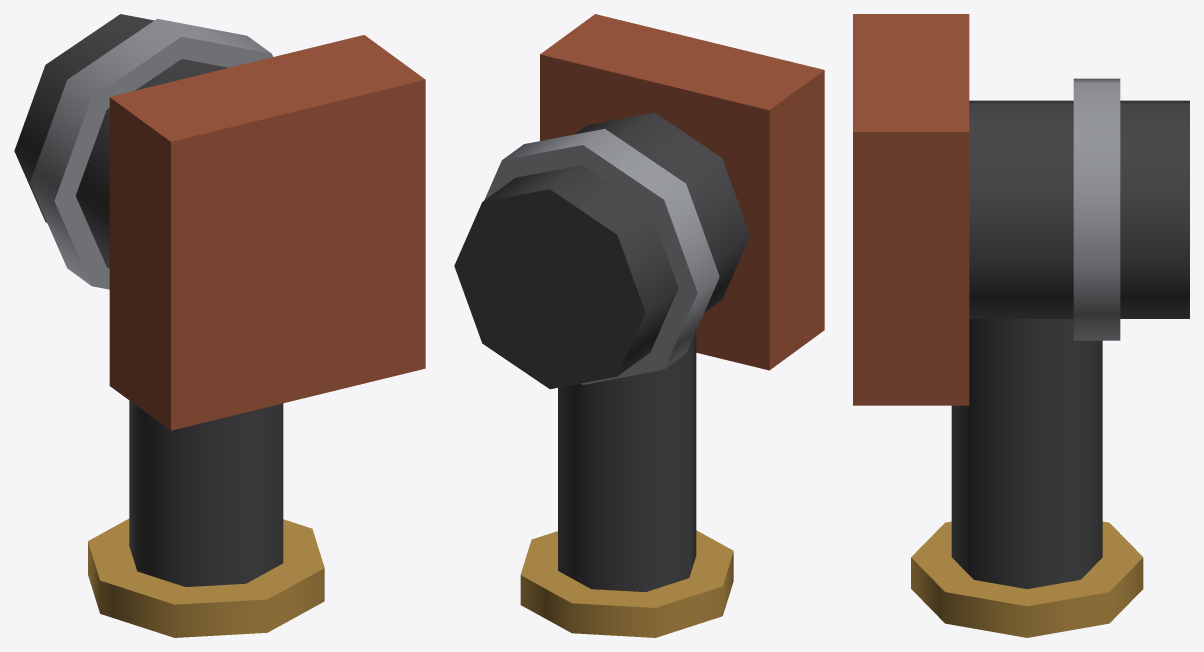
The model's file is pellet_auger.obj.
The picture shows the model from 3 angles, left to right: view 1: azimuth 30°, elevation 25°; view 2: azimuth 150°, elevation 25°; view 3: azimuth 270°, elevation 25°; orthographic projection. The views are drawn at different scales.
Visible parts, largest first — view 1: pellet_auger; view 2: pellet_auger; view 3: pellet_auger.
Part boxes in pixels (box(x1,y1,x2,y2)): pellet_auger: box(14, 14, 425, 637); pellet_auger: box(454, 14, 824, 637); pellet_auger: box(853, 14, 1189, 637).
Bounding box in the file's own units: 0.24 × 0.49 × 0.29.
